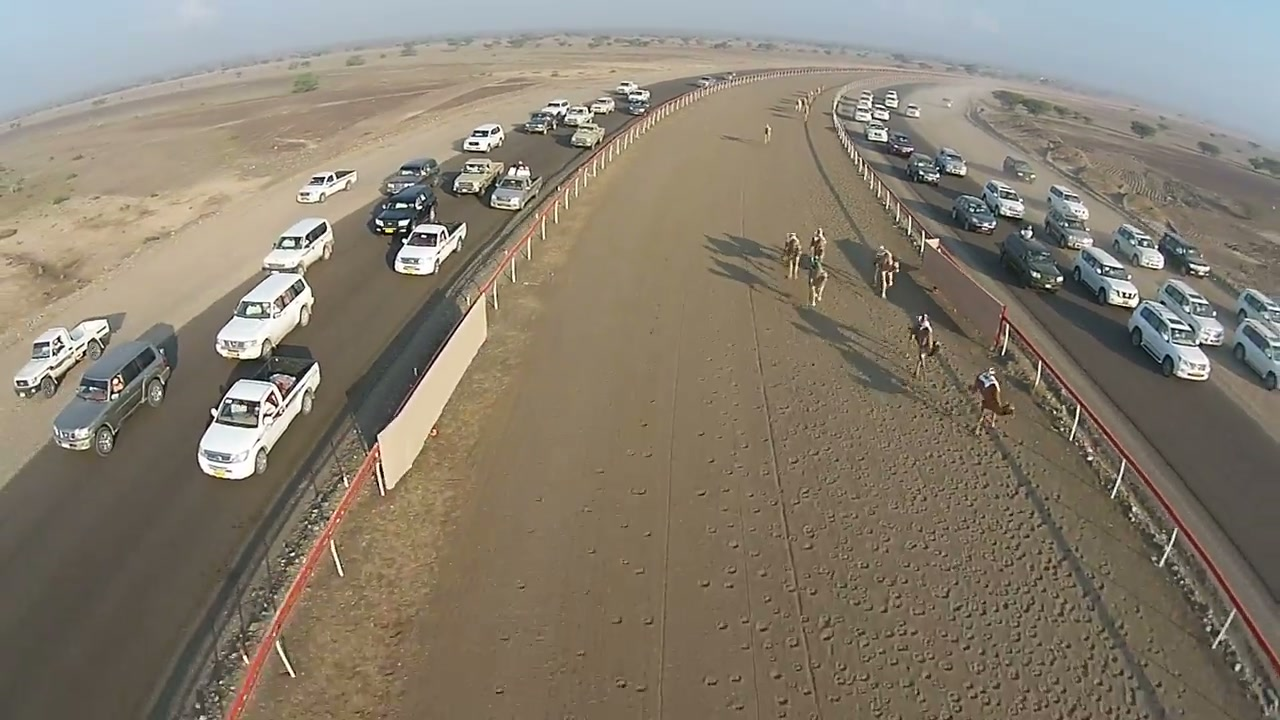animal_footprint: (820, 433, 1153, 718), (684, 388, 774, 718), (577, 398, 664, 717)
